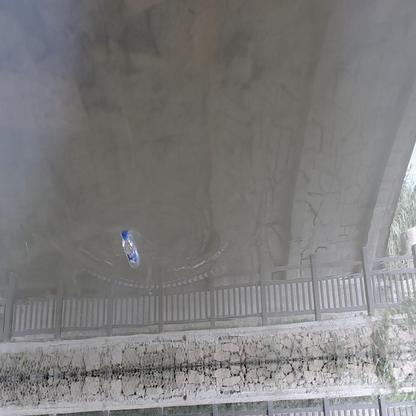plastic bottle: (120, 229, 141, 270)
